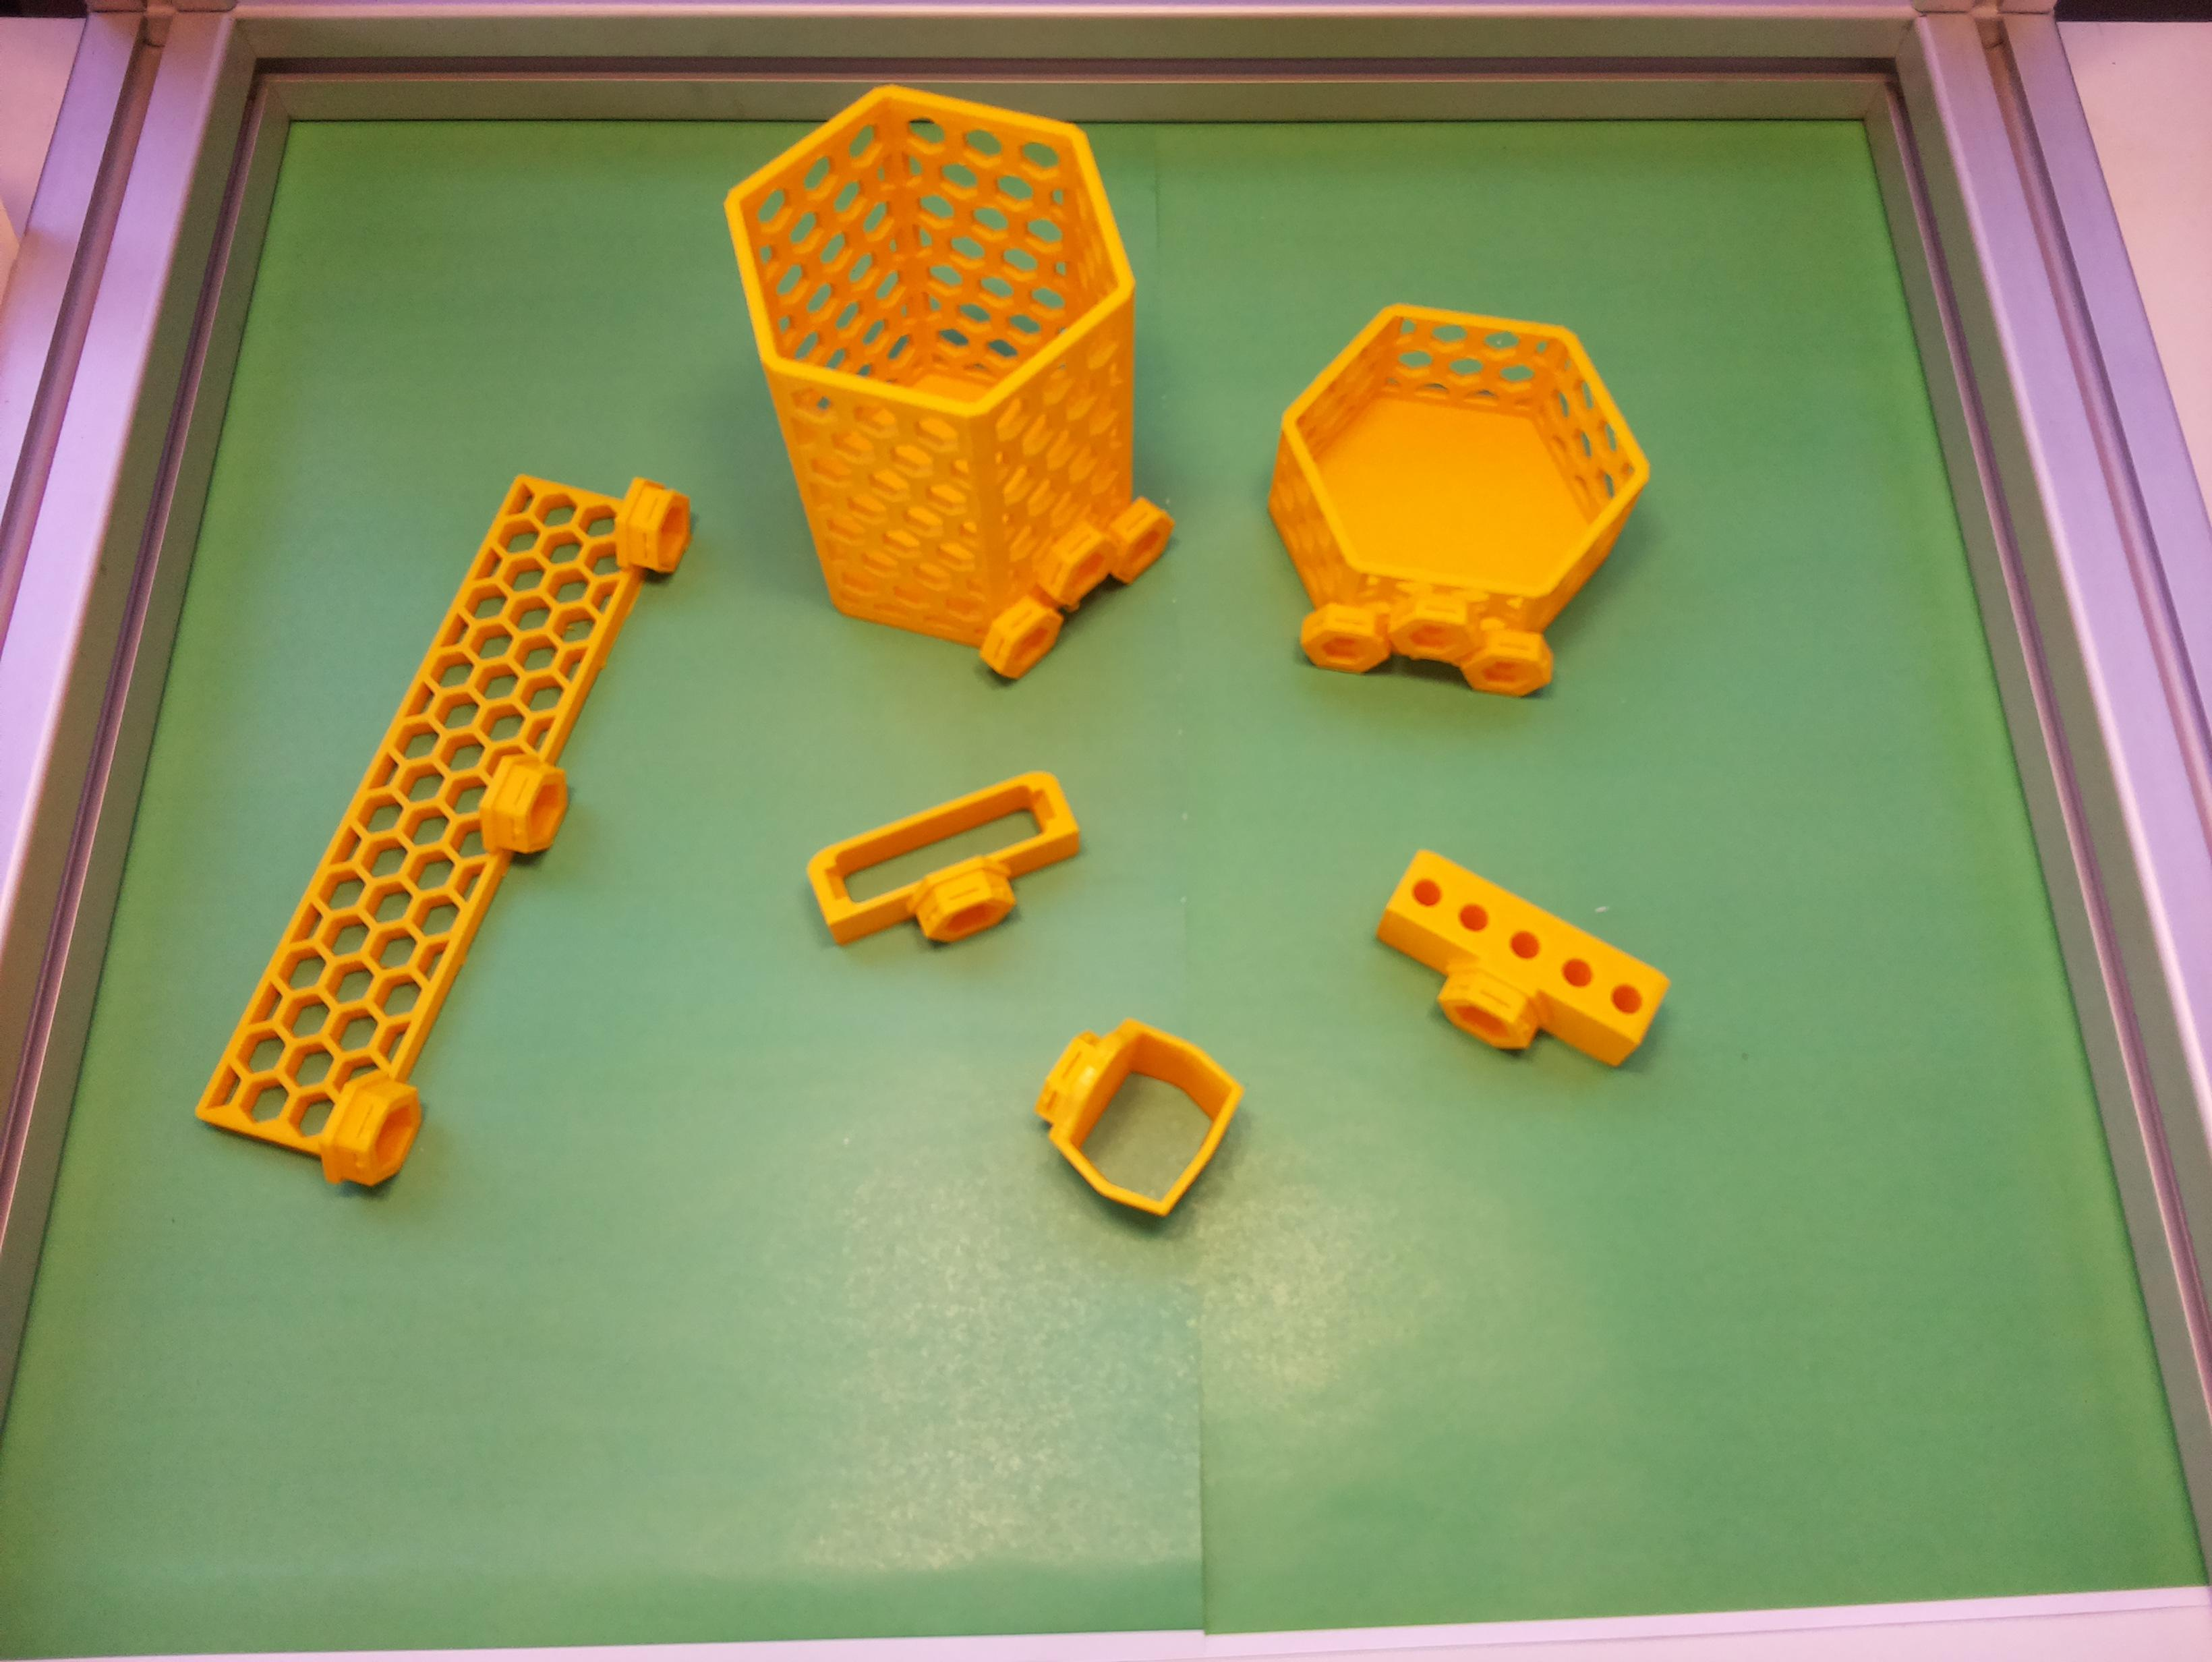bit_holder: (1351, 845, 1674, 1105)
bottle_holder: (1247, 290, 1667, 709)
cup_holder: (691, 31, 1236, 723)
cutter_holder: (800, 758, 1100, 983)
scissor_holder: (1009, 986, 1259, 1234)
tool_holder: (192, 422, 725, 1208)
